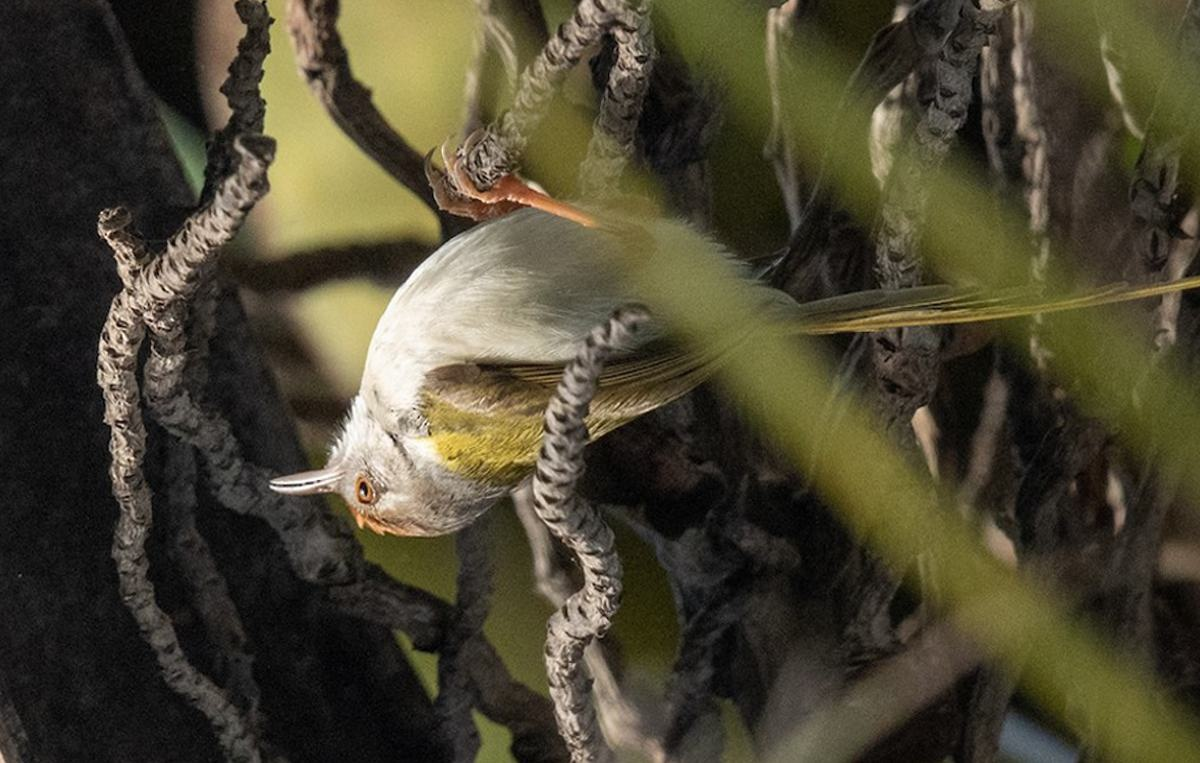tailorbird: (254, 167, 1188, 556)
